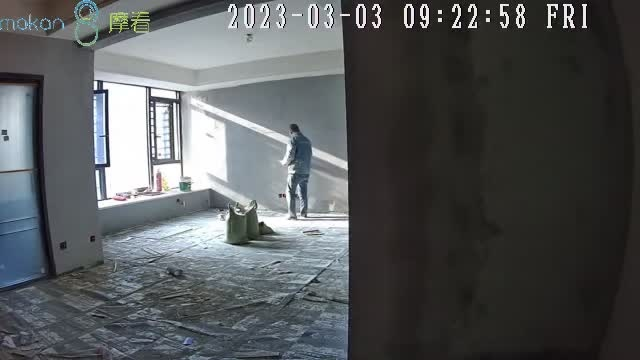people: (281, 123, 313, 219)
window: (92, 79, 184, 203)
